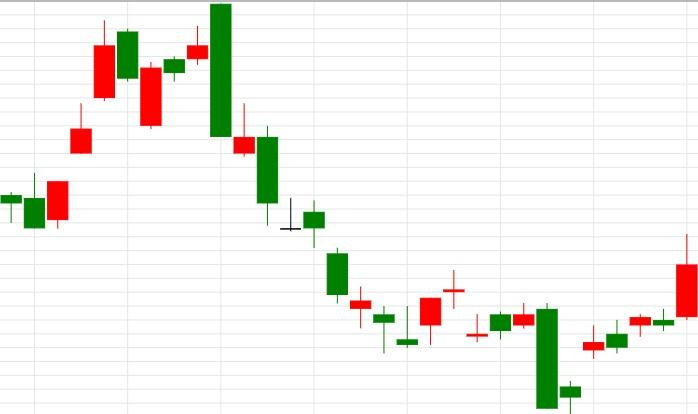bearish_engulfing_fall: (139, 3, 233, 138), (466, 303, 559, 409)
inverse_hammer_rise: (186, 3, 256, 157)
three_white_soldiers_rise: (0, 19, 116, 230)
